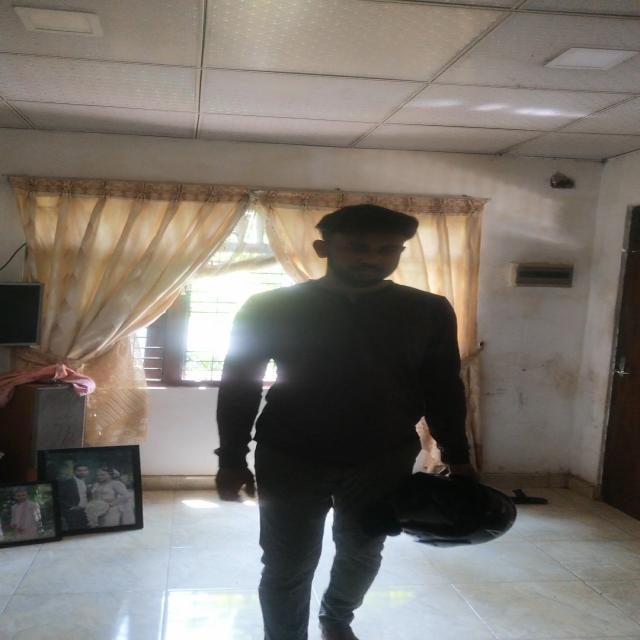Person: (218, 201, 470, 640)
